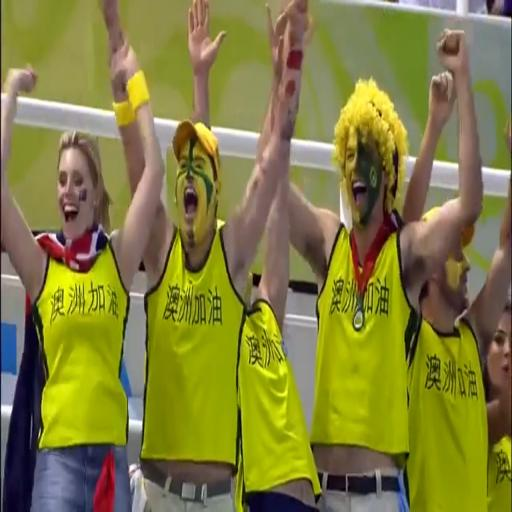nao-violencia: (1, 0, 313, 510), (240, 0, 484, 512)
